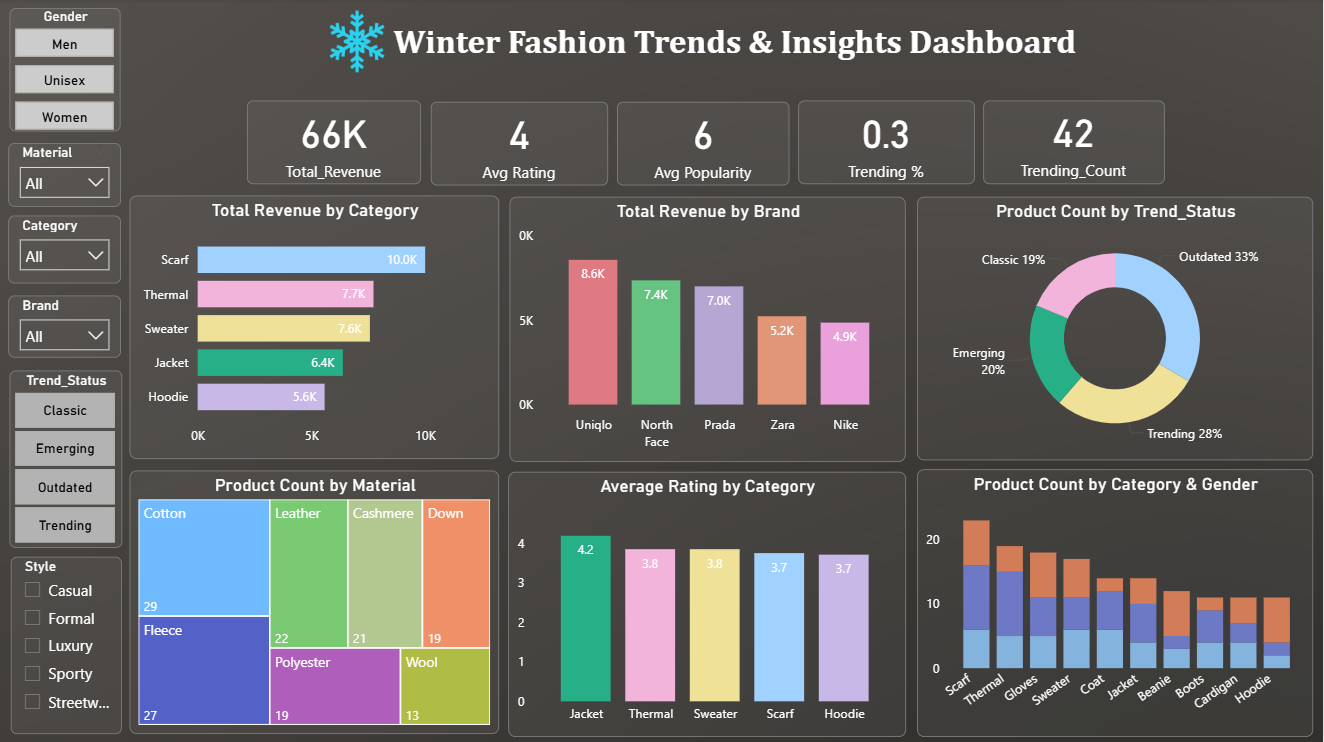

Layout of this report page (visuals, bound fields, positions):
{"tool":"powerbi","page":{"name":"Page 1","canvas":[1280,720],"ordinal":0},"visuals":[{"type":"card","fields":{"Values":["Winter_Fashion_Trends.Total_Revenue"]},"box":[241.3,98.9,167.7,80.8],"z":0},{"type":"card","fields":{"Values":["Winter_Fashion_Trends.Avg Rating"]},"box":[418.6,100.1,171.3,80.8],"z":1000},{"type":"card","fields":{"Values":["Winter_Fashion_Trends.Avg Popularity"]},"box":[598.4,100.1,166.5,80.8],"z":2000},{"type":"card","fields":{"Values":["Winter_Fashion_Trends.Trending %"]},"box":[773.3,98.9,170.1,80.8],"z":3000},{"type":"barChart","title":"Total Revenue by Category","fields":{"Category":["Winter_Fashion_Trends.Category"],"Y":["Winter_Fashion_Trends.Total_Revenue"]},"box":[127.9,190.6,357.1,254.6],"z":4000},{"type":"columnChart","title":"Total Revenue by Brand","fields":{"Category":["Winter_Fashion_Trends.Brand"],"Y":["Winter_Fashion_Trends.Total_Revenue"]},"box":[494.6,191.8,382.4,255.8],"z":5000},{"type":"donutChart","title":"Product Count by Trend_Status","fields":{"Category":["Winter_Fashion_Trends.Trend_Status"],"Y":["CountNonNull(Winter_Fashion_Trends.Product_ID)"]},"box":[887.9,191.8,382.4,254.6],"z":6000},{"type":"columnChart","title":"Average Rating by Category","fields":{"Category":["Winter_Fashion_Trends.Category"],"Y":["Winter_Fashion_Trends.Avg Rating"]},"box":[493.4,457.2,383.6,255.8],"z":7000},{"type":"treemap","title":" Product Count by Material","fields":{"Group":["Winter_Fashion_Trends.Material"],"Values":["CountNonNull(Winter_Fashion_Trends.Product_ID)"]},"box":[127.9,456,357.1,254.6],"z":8000},{"type":"lineStackedColumnComboChart","title":"Product Count by Category & Gender","fields":{"Category":["Winter_Fashion_Trends.Category"],"Y":["CountNonNull(Winter_Fashion_Trends.Product_ID)"],"Series":["Winter_Fashion_Trends.Gender"]},"box":[887.9,454.8,382.4,258.2],"z":9000},{"type":"slicer","fields":{"Values":["Winter_Fashion_Trends.Brand"]},"box":[11,286.8,108.4,60.4],"z":10000},{"type":"advancedSlicerVisual","fields":{"Values":["Winter_Fashion_Trends.Trend_Status"]},"box":[12.3,359.5,108.4,171.5],"z":11000},{"type":"slicer","fields":{"Values":["Winter_Fashion_Trends.Category"]},"box":[11,209.9,108.4,65.9],"z":12000},{"type":"slicer","fields":{"Values":["Winter_Fashion_Trends.Style"]},"box":[13.7,539.3,107,171.5],"z":13000},{"type":"advancedSlicerVisual","fields":{"Values":["Winter_Fashion_Trends.Gender"]},"box":[12.3,9.6,107,119.4],"z":14000},{"type":"slicer","fields":{"Values":["Winter_Fashion_Trends.Material"]},"box":[11,140,108.4,61.7],"z":15000},{"type":"textbox","box":[119.4,13.3,1160.6,73.6],"z":16000},{"type":"card","fields":{"Values":["Winter_Fashion_Trends.Trending_Count"]},"box":[951.9,98.9,174.9,80.8],"z":17000},{"type":"image","box":[241.3,0,212.3,86.9],"z":18000}]}

Visuals, with their boxes in screenshot pixels (x1, y1, x2, y2), scaled from the page's 1280x720 canvas onto the 1324x742 screenshot:
card - Winter_Fashion_Trends.Total_Revenue: <box>250,102,423,185</box>
card - Winter_Fashion_Trends.Avg Rating: <box>433,103,610,186</box>
card - Winter_Fashion_Trends.Avg Popularity: <box>619,103,791,186</box>
card - Winter_Fashion_Trends.Trending %: <box>800,102,976,185</box>
"Total Revenue by Category" barChart: <box>132,196,502,459</box>
"Total Revenue by Brand" columnChart: <box>512,198,907,461</box>
"Product Count by Trend_Status" donutChart: <box>918,198,1314,460</box>
"Average Rating by Category" columnChart: <box>510,471,907,735</box>
" Product Count by Material" treemap: <box>132,470,502,732</box>
"Product Count by Category & Gender" lineStackedColumnComboChart: <box>918,469,1314,735</box>
slicer - Winter_Fashion_Trends.Brand: <box>11,296,124,358</box>
advancedSlicerVisual - Winter_Fashion_Trends.Trend_Status: <box>13,370,125,547</box>
slicer - Winter_Fashion_Trends.Category: <box>11,216,124,284</box>
slicer - Winter_Fashion_Trends.Style: <box>14,556,125,733</box>
advancedSlicerVisual - Winter_Fashion_Trends.Gender: <box>13,10,123,133</box>
slicer - Winter_Fashion_Trends.Material: <box>11,144,124,208</box>
textbox: <box>124,14,1323,90</box>
card - Winter_Fashion_Trends.Trending_Count: <box>985,102,1166,185</box>
image: <box>250,0,469,90</box>
